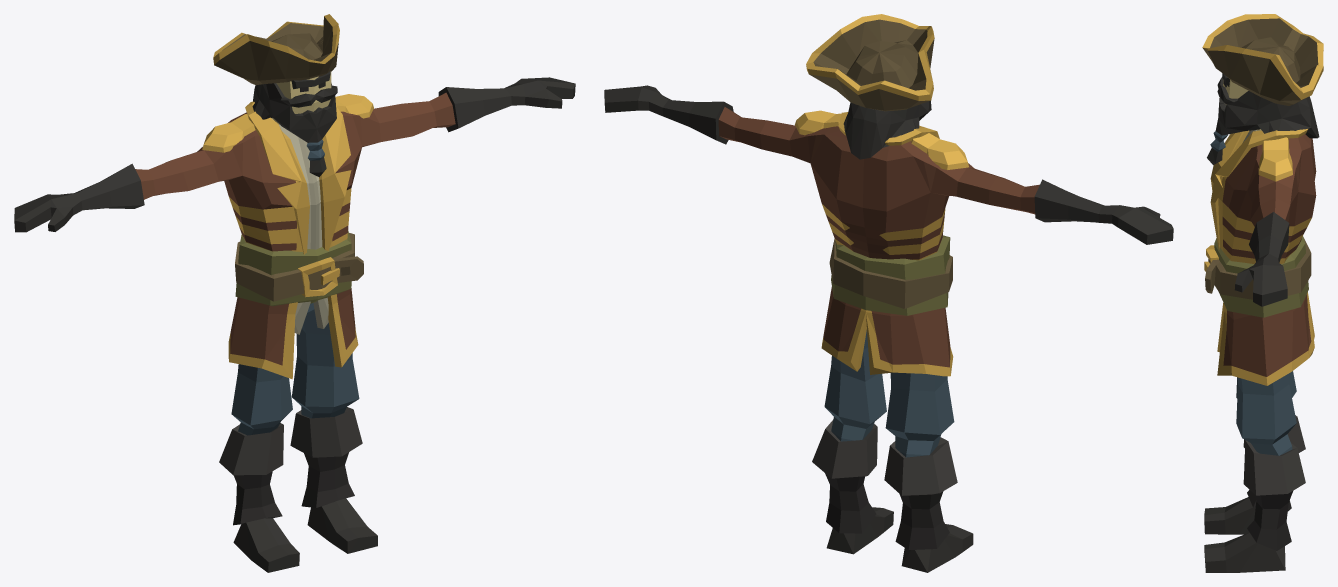
Rendered from PirateCapitan_2.fbx.
3 renders of one model, left to right at view 1: azimuth 30°, elevation 25°; view 2: azimuth 150°, elevation 25°; view 3: azimuth 270°, elevation 25°, orthographic.
Visible parts, largest first — view 1: PirateCapitan_2; view 2: PirateCapitan_2; view 3: PirateCapitan_2.
Boxes of the visible parts, x1,y1,x2,y2 form: PirateCapitan_2: (14, 14, 575, 572); PirateCapitan_2: (604, 14, 1173, 572); PirateCapitan_2: (1202, 14, 1323, 572).
Bounding box in the file's own units: 206 × 179 × 38.32.
